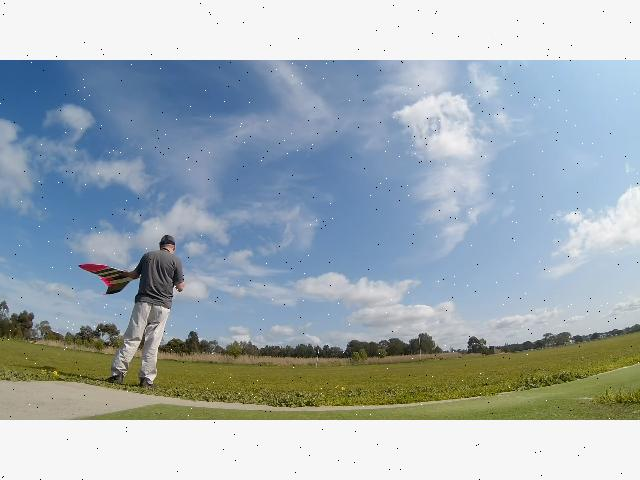Anti-Drone: (62, 246, 156, 306)
